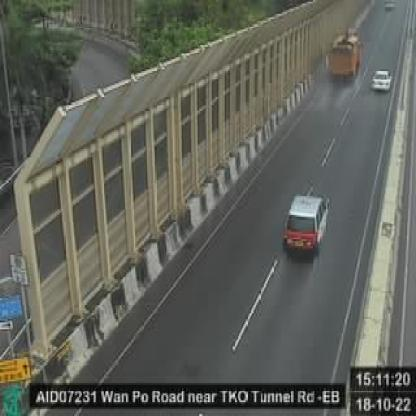Car: (283, 195, 330, 261), (371, 69, 392, 93)
Truck: (328, 29, 362, 80)
